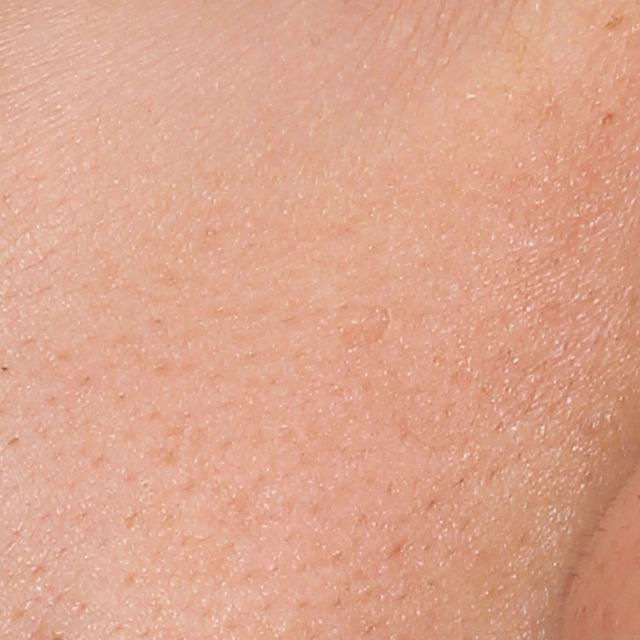atrophic_scar: (337, 298, 393, 349)
melasma: (601, 9, 626, 32)
